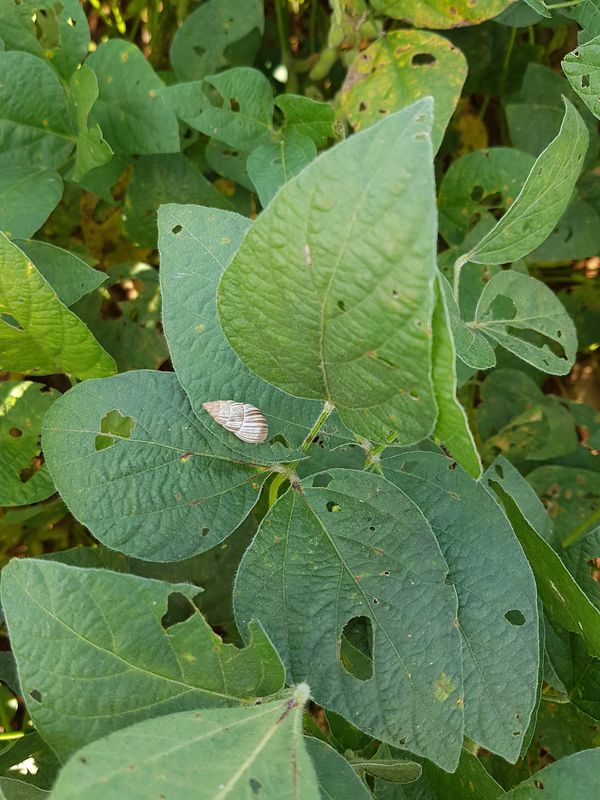Gastropoda: (189, 390, 275, 455)
